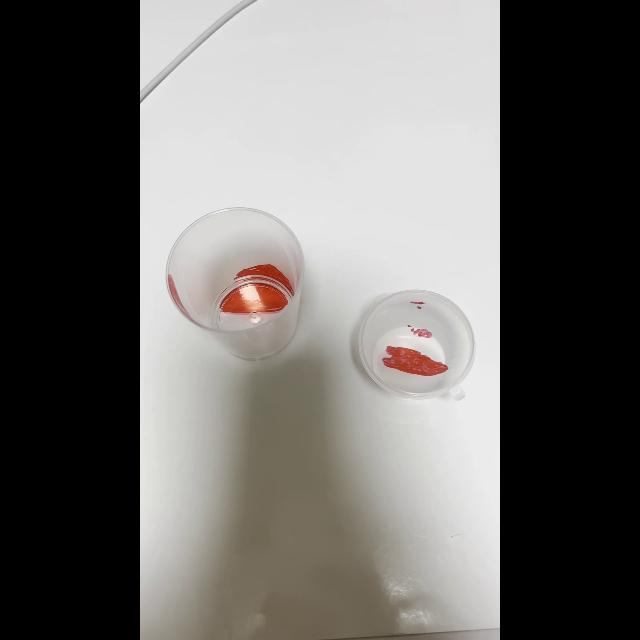dirty: (172, 202, 308, 358), (362, 287, 478, 397)
